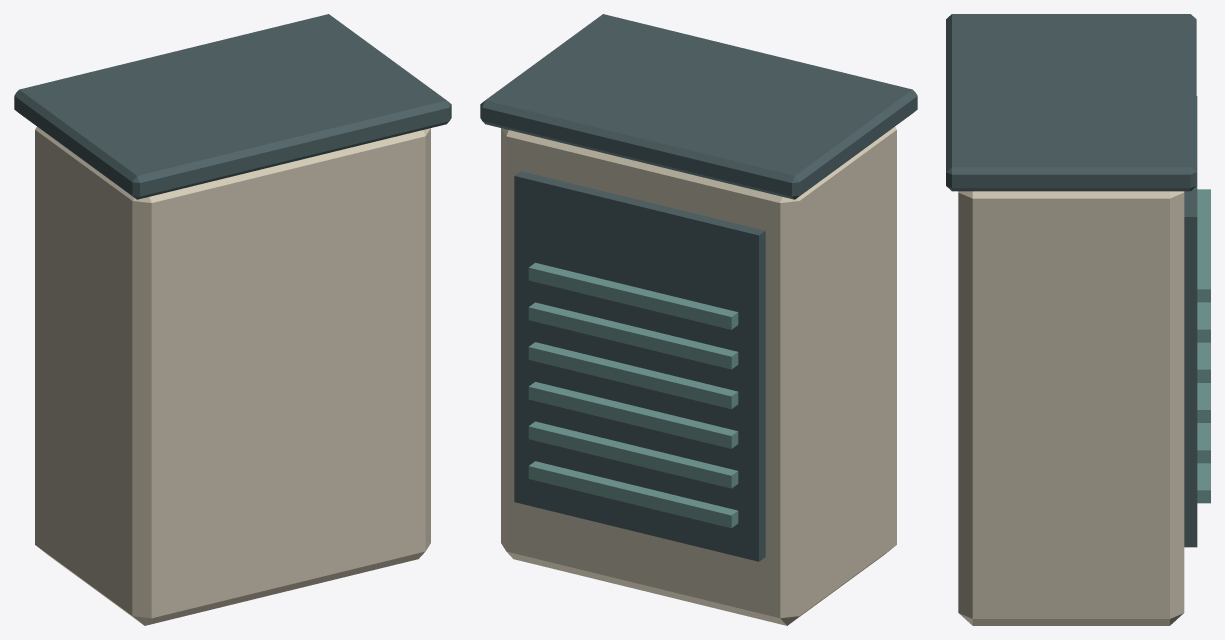
The model's file is utility-box.glb.
3 renders of one model, left to right at view 1: azimuth 30°, elevation 25°; view 2: azimuth 150°, elevation 25°; view 3: azimuth 270°, elevation 25°, orthographic.
Parts seen in each view (by area): view 1: CITY_utility_box; view 2: CITY_utility_box; view 3: CITY_utility_box.
Boxes of the visible parts, x1,y1,x2,y2 form: CITY_utility_box: (14,14,451,625); CITY_utility_box: (480,14,917,625); CITY_utility_box: (946,14,1210,625).
Size of the model in its own units: 0.91 by 1.26 by 0.645.
